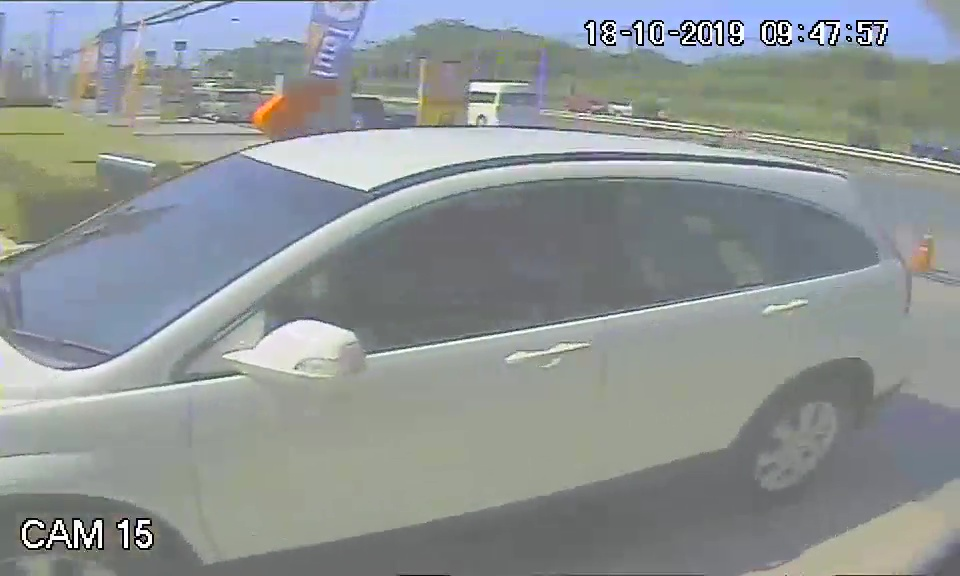pickup: (21, 117, 914, 541)
